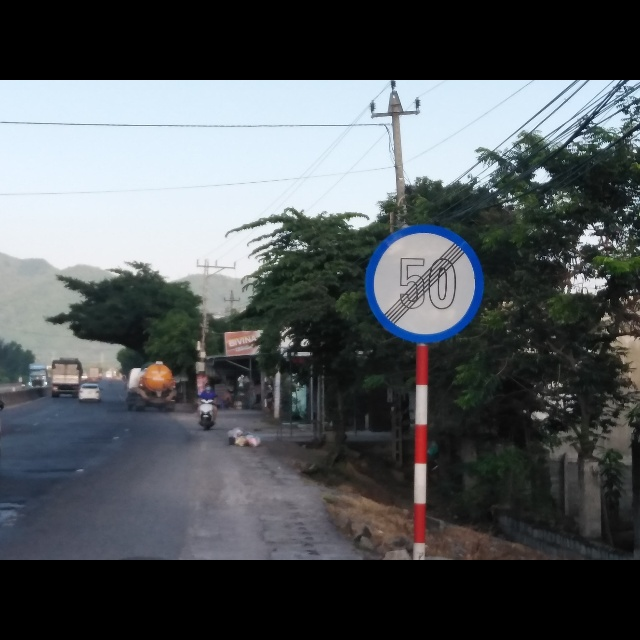Hết hạn chế tốc độ tối đa 50km/h: (361, 222, 486, 346)
